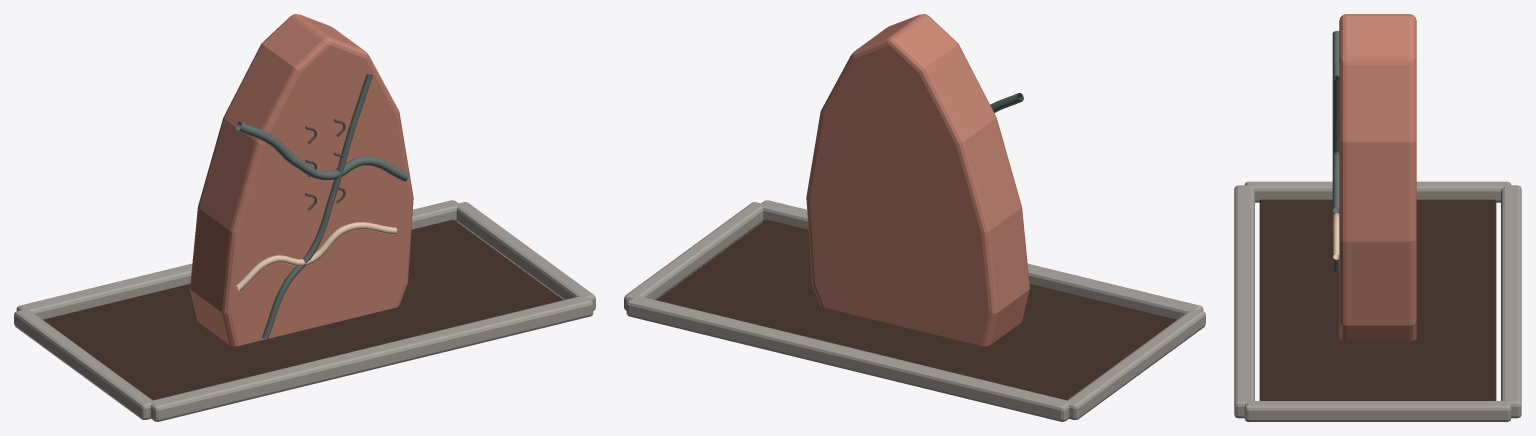
File: plaza-stone.glb
3 renders of one model, left to right at view 1: azimuth 30°, elevation 25°; view 2: azimuth 150°, elevation 25°; view 3: azimuth 270°, elevation 25°, orthographic. The views are drawn at different scales.
Visible parts, largest first — view 1: GraniteMonolith, PlanterSoil, PlanterFront, PlanterBack, PlanterLeft, PlanterRight, MineralVein_2, MineralVein_0, MineralVein_1; view 2: GraniteMonolith, PlanterSoil, PlanterBack, PlanterFront, PlanterLeft, PlanterRight; view 3: PlanterSoil, GraniteMonolith, PlanterRight, PlanterBack, PlanterFront, PlanterLeft, MineralVein_0, MineralVein_2, MineralVein_1.
Boxes of the visible parts, <box> form: GraniteMonolith: <box>190,14,413,346</box>; PlanterSoil: <box>43,219,563,400</box>; PlanterFront: <box>150,296,593,421</box>; PlanterBack: <box>16,200,458,319</box>; PlanterLeft: <box>14,309,152,419</box>; PlanterRight: <box>456,202,595,310</box>; MineralVein_2: <box>262,73,372,339</box>; MineralVein_0: <box>235,122,408,181</box>; MineralVein_1: <box>235,222,396,290</box>; GraniteMonolith: <box>806,14,1029,346</box>; PlanterSoil: <box>656,219,1176,400</box>; PlanterBack: <box>626,296,1069,421</box>; PlanterFront: <box>761,200,1203,319</box>; PlanterLeft: <box>1067,309,1205,419</box>; PlanterRight: <box>624,202,763,310</box>; PlanterSoil: <box>1259,199,1496,400</box>; GraniteMonolith: <box>1339,14,1416,341</box>; PlanterRight: <box>1244,401,1511,421</box>; PlanterBack: <box>1501,185,1521,418</box>; PlanterFront: <box>1234,185,1254,418</box>; PlanterLeft: <box>1245,181,1510,202</box>; MineralVein_0: <box>1332,30,1339,213</box>; MineralVein_2: <box>1333,75,1339,271</box>; MineralVein_1: <box>1333,213,1339,259</box>.
Bounding box in the file's own units: 14.28 × 8.79 × 7.65.
